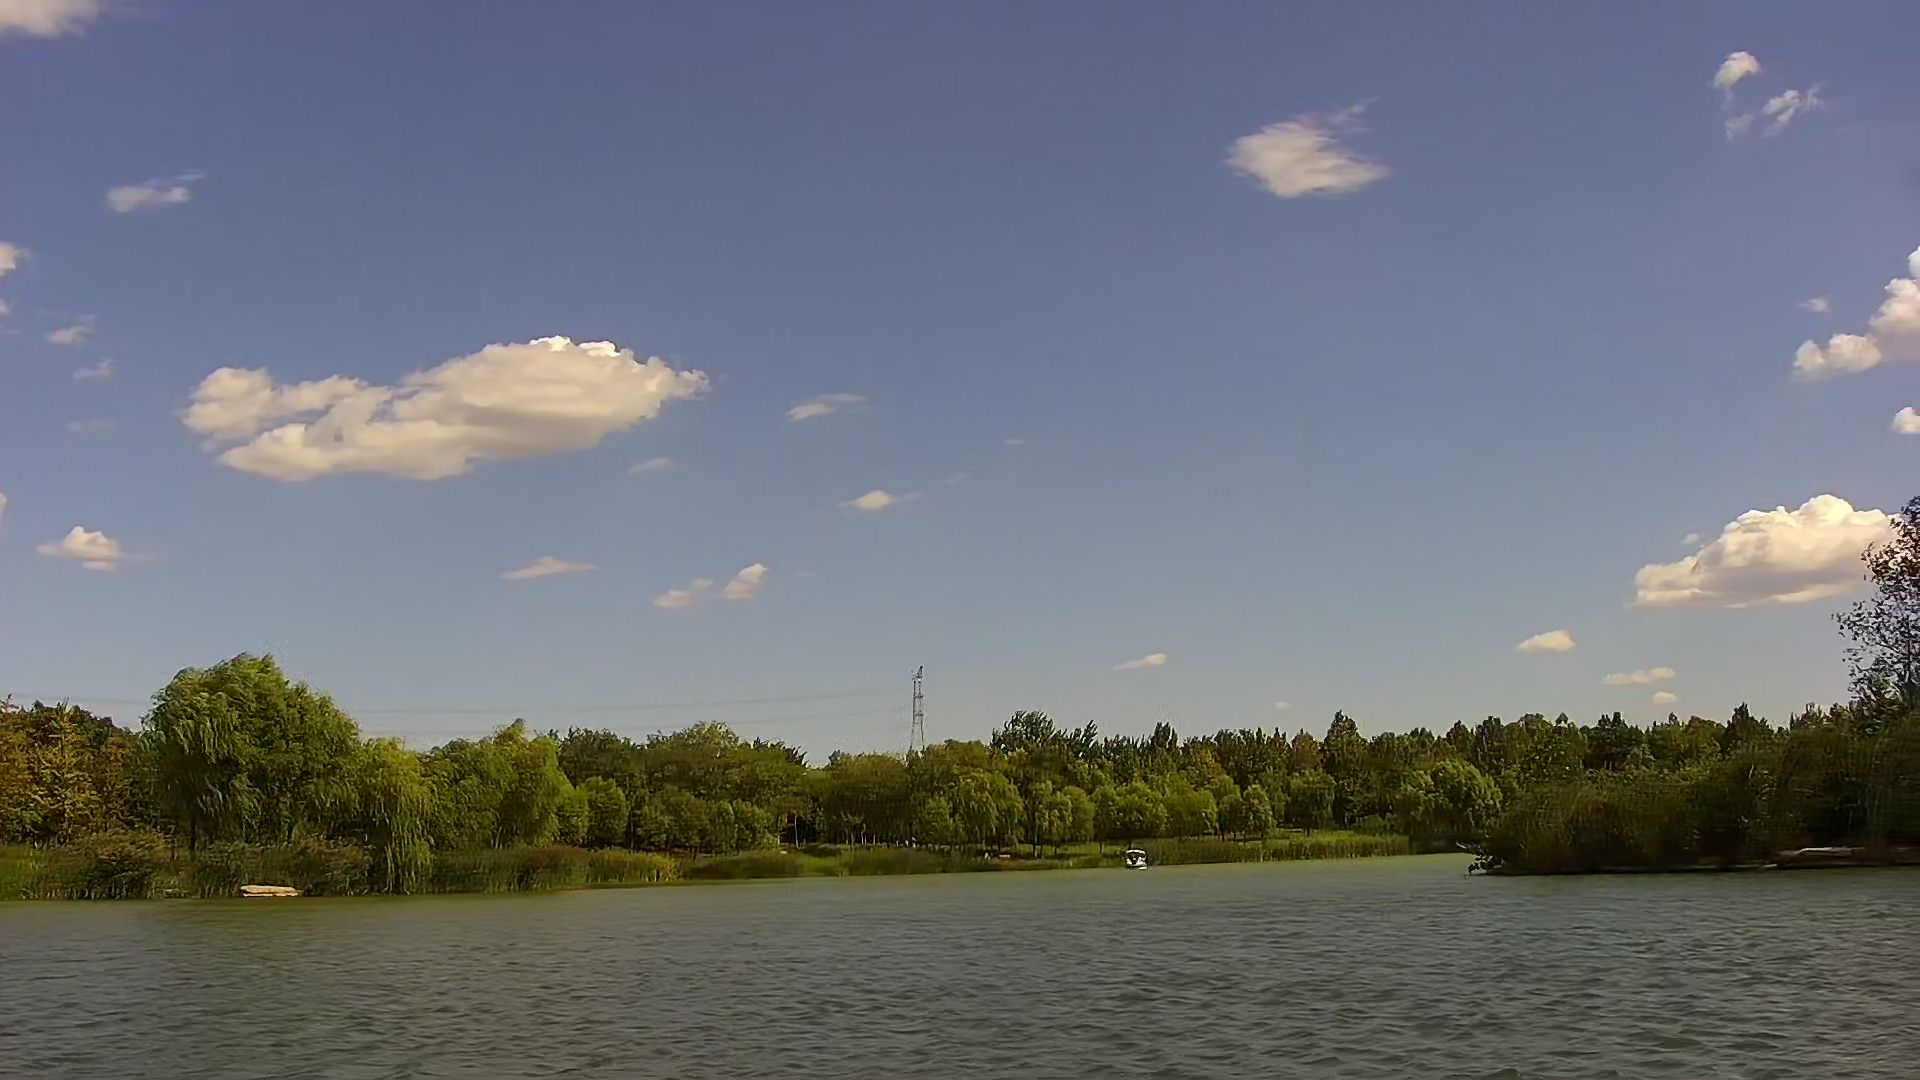boat: (1117, 845, 1142, 868)
rock: (237, 880, 298, 897)
